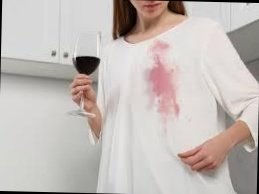wine: (141, 40, 186, 129)
